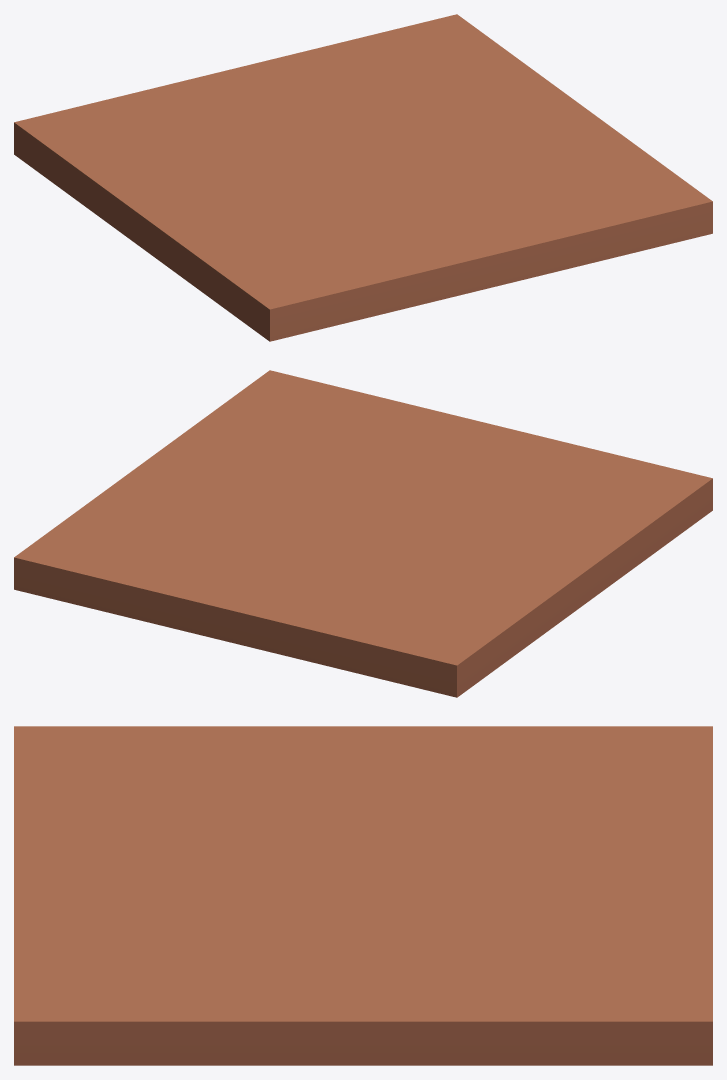
File: Present_Base.obj
3 views of the same model, one above another, from view 1: azimuth 30°, elevation 25°; view 2: azimuth 150°, elevation 25°; view 3: azimuth 270°, elevation 25° (orthographic). The views are drawn at different scales.
Parts seen in each view (by area): view 1: Present_Base; view 2: Present_Base; view 3: Present_Base.
Boxes of the visible parts, left/top/right/bottom form: Present_Base: left=14, top=14, right=712, bottom=341; Present_Base: left=14, top=370, right=712, bottom=697; Present_Base: left=14, top=726, right=712, bottom=1065.
Size of the model in its own units: 1.66 by 0.115 by 1.66.
Materials: 1 (1 with a texture image).
